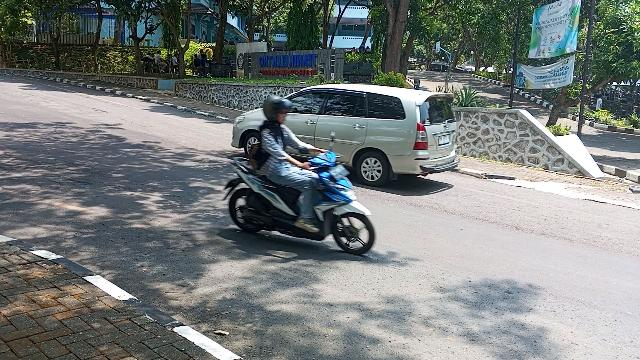helm: (263, 95, 297, 125)
motor: (221, 130, 379, 257)
